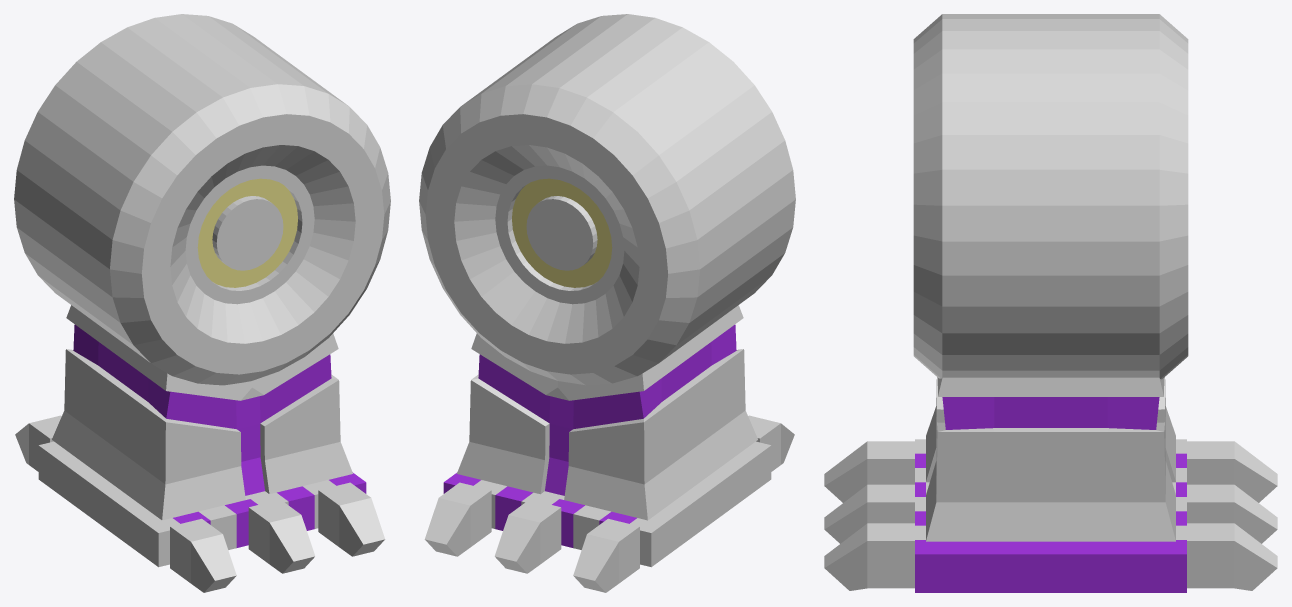
The model's file is Tower2.glb.
The picture shows the model from 3 angles, left to right: view 1: azimuth 30°, elevation 25°; view 2: azimuth 150°, elevation 25°; view 3: azimuth 270°, elevation 25°; orthographic projection. The views are drawn at different scales.
Visible parts, largest first — view 1: Cube; view 2: Cube; view 3: Cube.
Boxes of the visible parts, x1=… form: Cube: x1=14, y1=14, x2=390, y2=592; Cube: x1=419, y1=14, x2=795, y2=592; Cube: x1=824, y1=14, x2=1277, y2=592.
Bounding box in the file's own units: 1.6 × 2.47 × 1.97.
